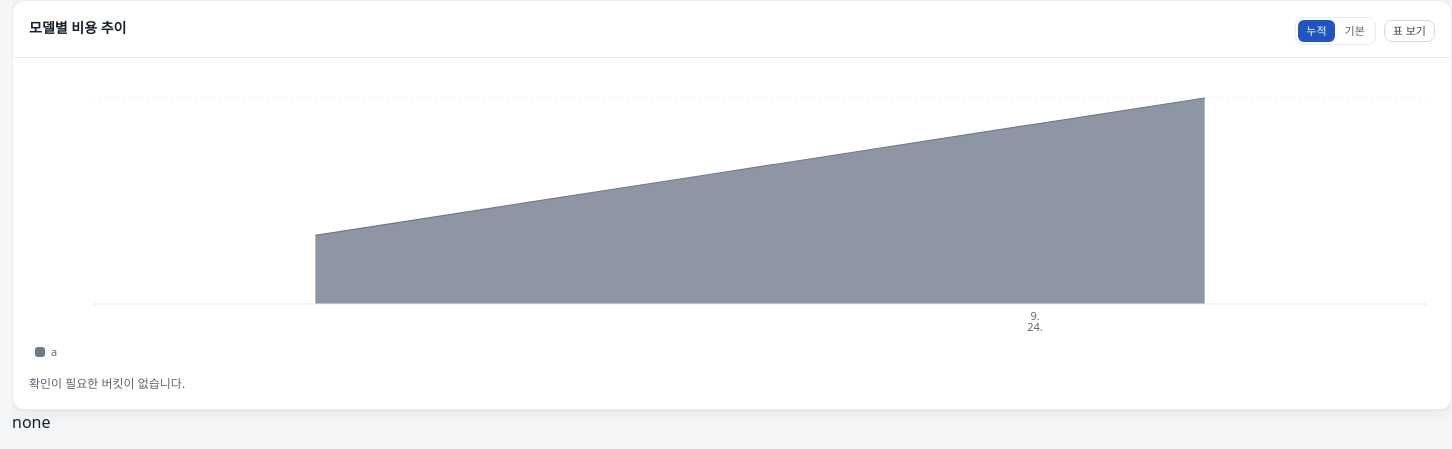
Test: drag zoom is clamped to the selected range (weekly buckets on a cap-length range)
Press the mouse on the element with class "recharts-wrapper" at (732, 204), box top-left (29, 74), bottom-right (1435, 334)
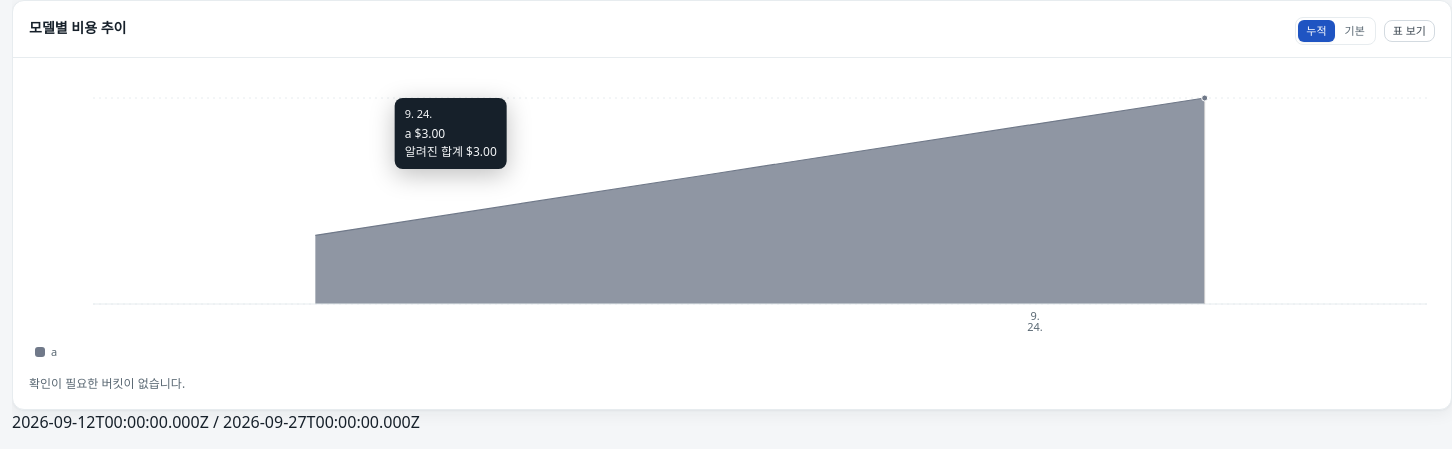
Expected: the text named "선택 구간" reads "2026-09-12T00:00:00.000Z / 2026-09-27T00:00:00.000Z", top-left (12, 410), bottom-right (420, 432)
